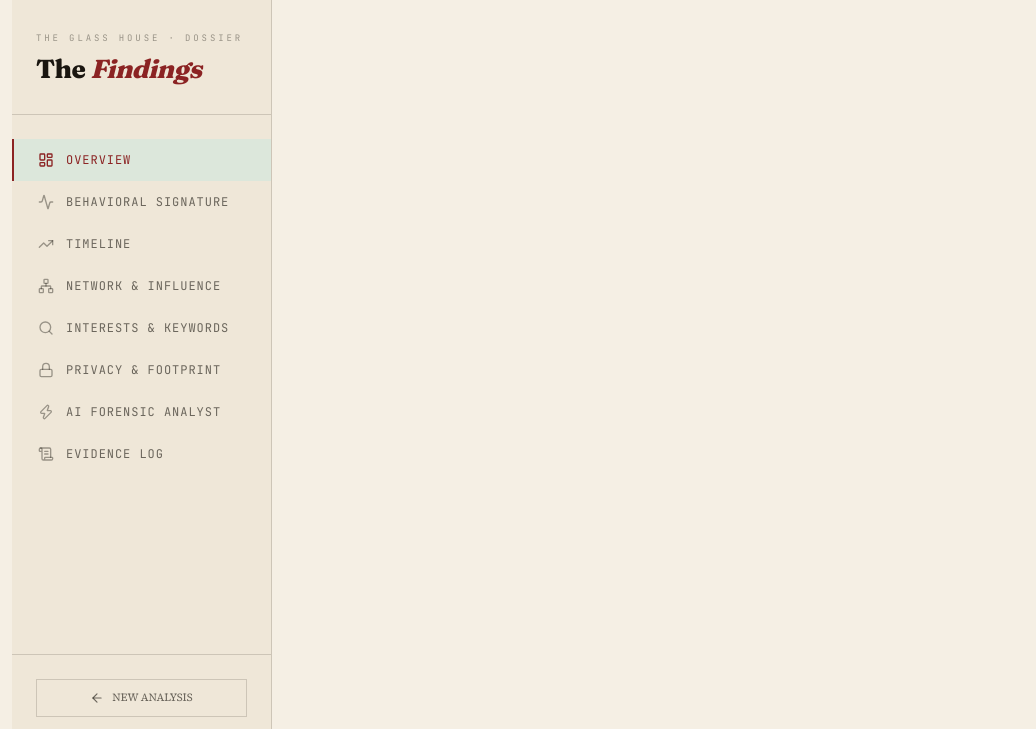
Test: DossierShell (via ForensicDashboard) › clicking a tab switches activeTab and (async) renders its lazy-loaded content
Click the button "Behavioral Signature". click: (142, 202)
box: [12,180,271,222]
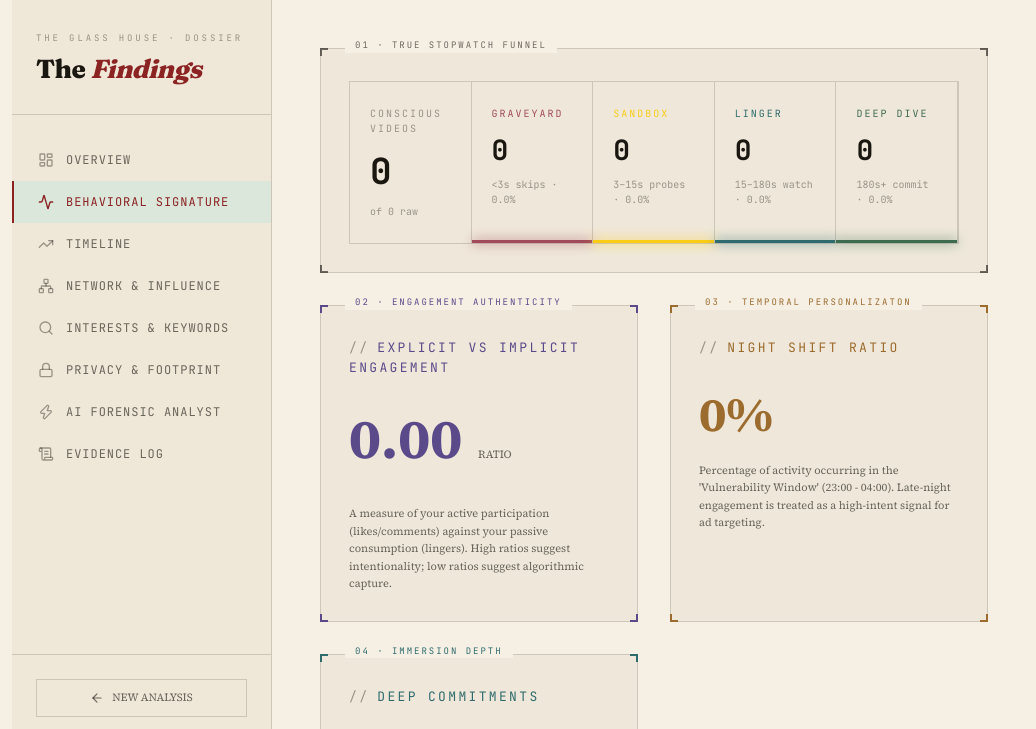
Now the text "01 · True Stopwatch Funnel" is shown, box [345,39,557,52]
